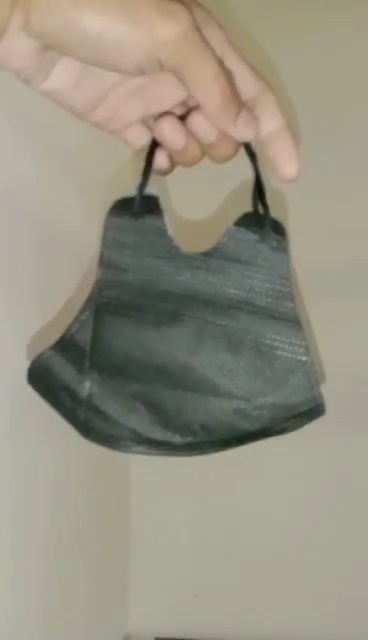facemask: (32, 118, 325, 454)
hand: (16, 1, 302, 181)
